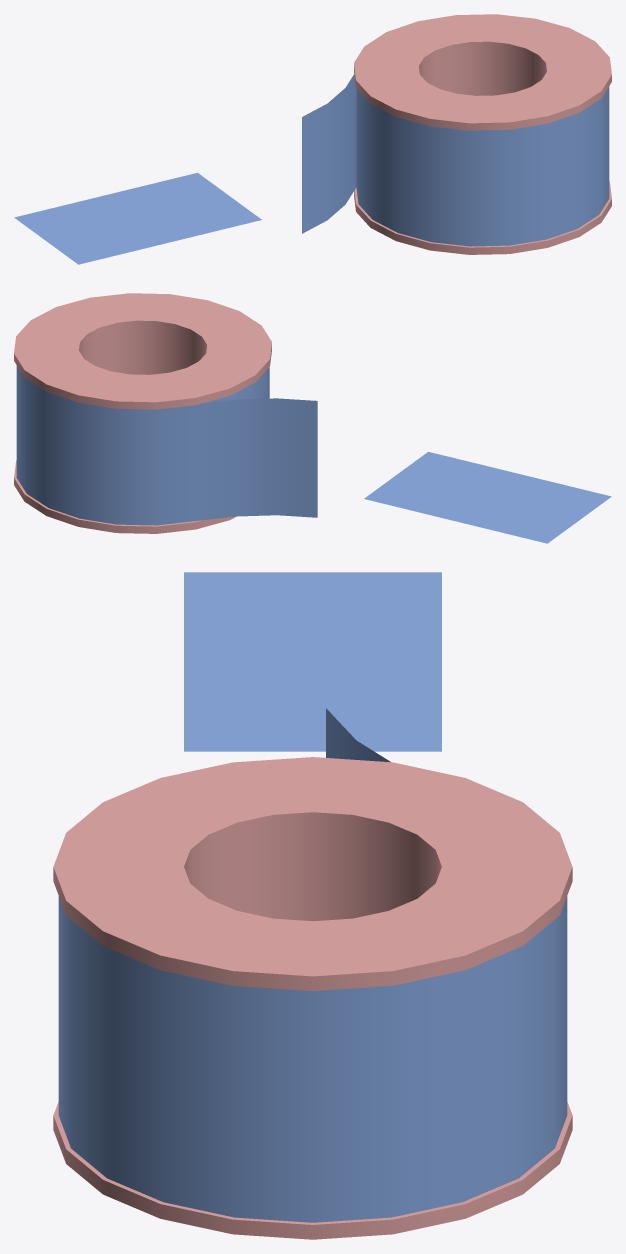
The model's file is Esparatrapo_LowPoly_v1.fbx.
The picture shows the model from 3 angles, top to bottom: view 1: azimuth 30°, elevation 25°; view 2: azimuth 150°, elevation 25°; view 3: azimuth 270°, elevation 25°; orthographic projection. The views are drawn at different scales.
Parts seen in each view (by area): view 1: pCylinder2, pCylinder3, pPlane1; view 2: pCylinder2, pCylinder3, pPlane1; view 3: pCylinder2, pCylinder3, pPlane1.
Boxes of the visible parts, x1,y1,x2,y2 form: pCylinder2: (302,74,609,246); pCylinder3: (354,14,611,254); pPlane1: (14,172,261,264); pCylinder2: (16,365,317,525); pCylinder3: (14,293,271,533); pPlane1: (364,451,611,543); pCylinder2: (58,708,567,1222); pCylinder3: (53,757,572,1239); pPlane1: (184,572,441,751).
Bounding box in the file's own units: 12.29 × 2.82 × 5.03.
